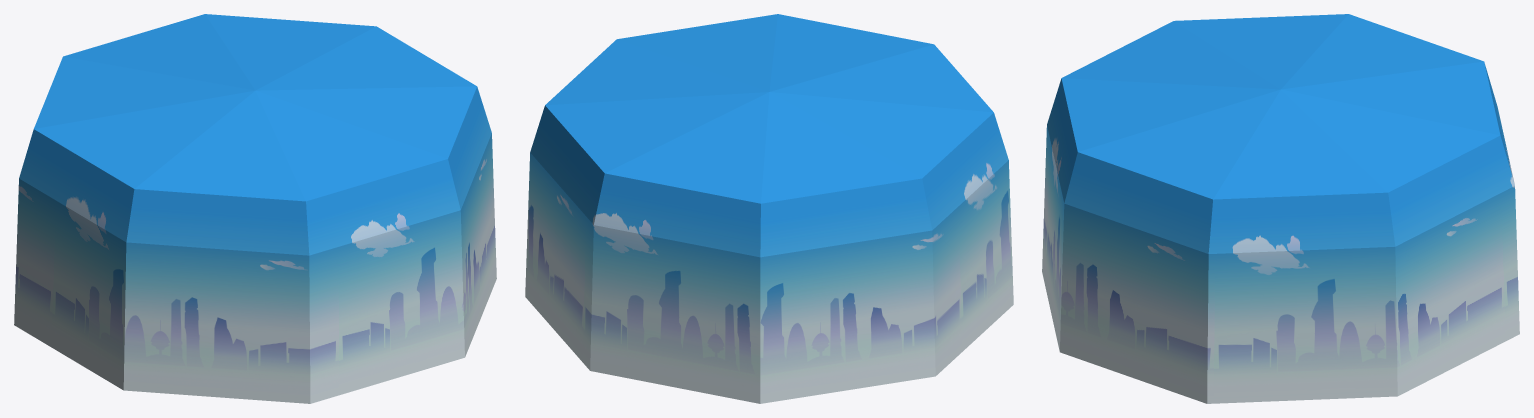
The model's file is city.fbx.
The picture shows the model from 3 angles, left to right: view 1: azimuth 30°, elevation 25°; view 2: azimuth 150°, elevation 25°; view 3: azimuth 270°, elevation 25°; orthographic projection. The views are drawn at different scales.
Visible parts, largest first — view 1: Sphere; view 2: Sphere; view 3: Sphere.
Boxes of the visible parts, box(x1,y1,x2,y2) form: Sphere: box(14, 14, 496, 403); Sphere: box(525, 14, 1013, 403); Sphere: box(1042, 14, 1519, 403).
Size of what is drawn, in the model's own units: 42500 by 20957 by 42500.
